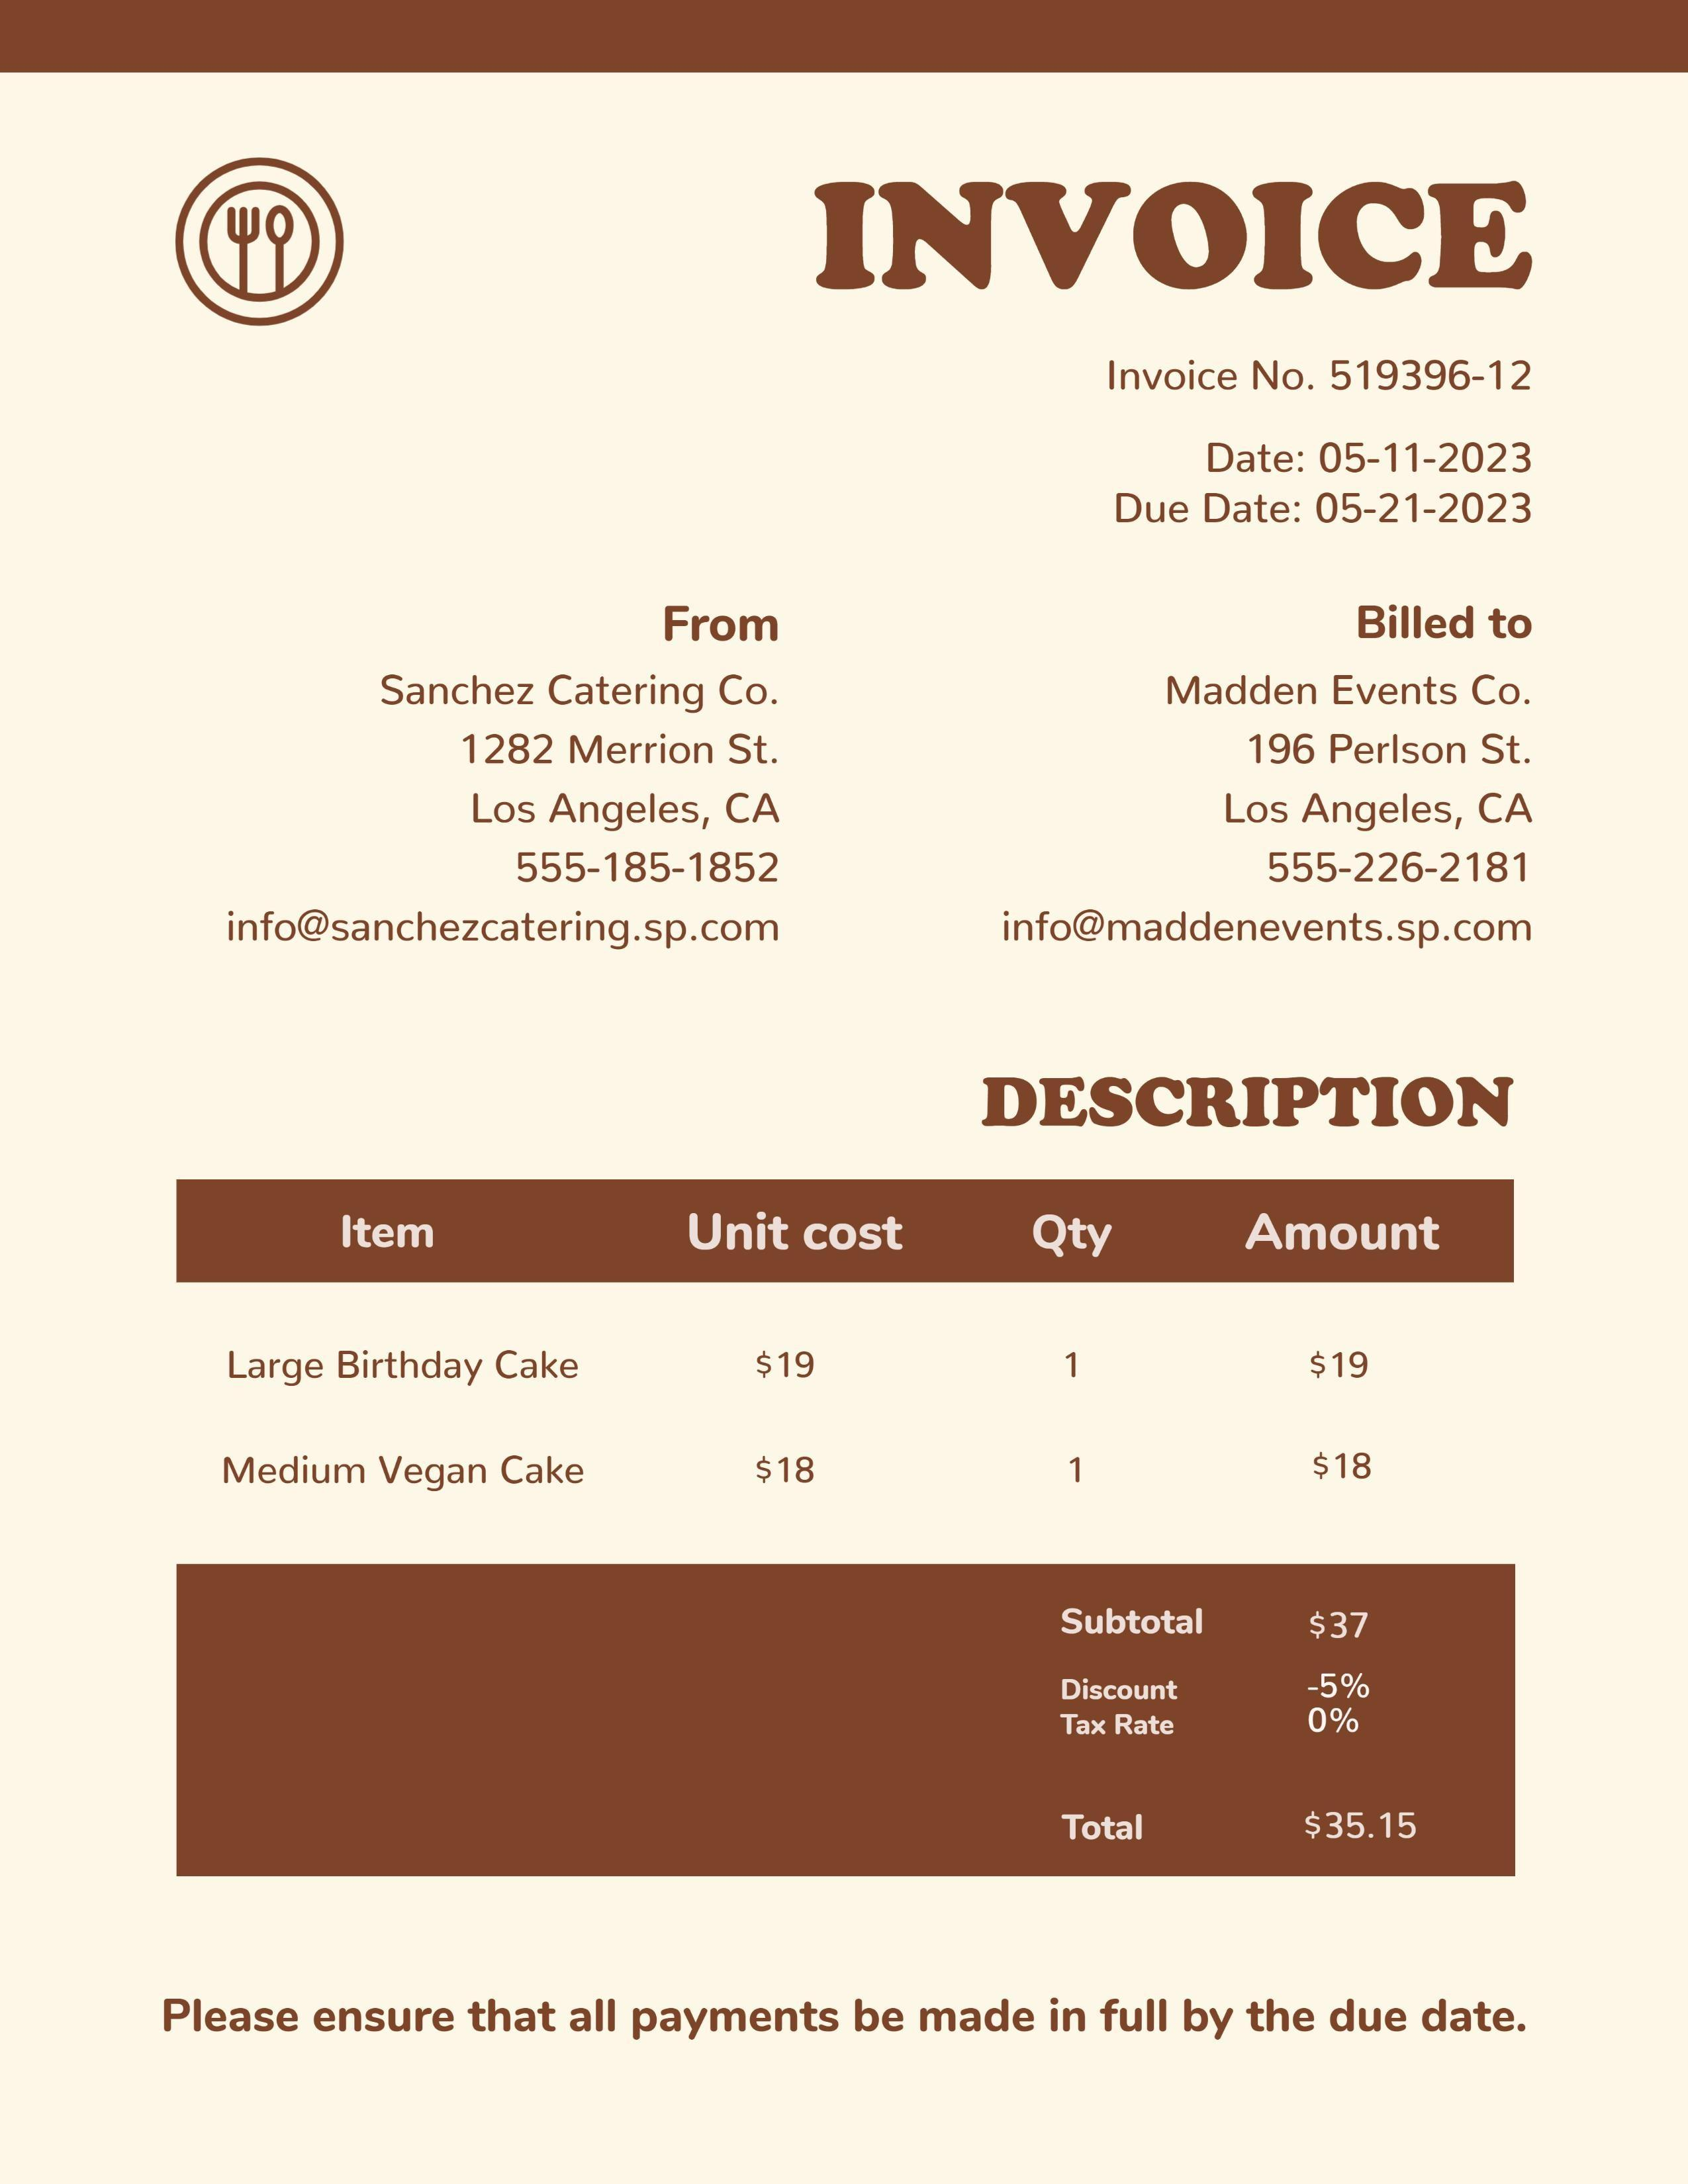ROI: (215, 1186, 1470, 1510), (218, 592, 793, 952), (991, 597, 1555, 954), (152, 1969, 1532, 2046), (1089, 356, 1562, 557), (1055, 1599, 1436, 1845)
